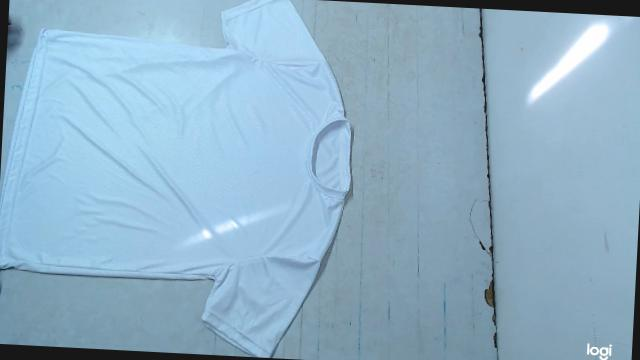new-garment: (0, 0, 351, 357)
